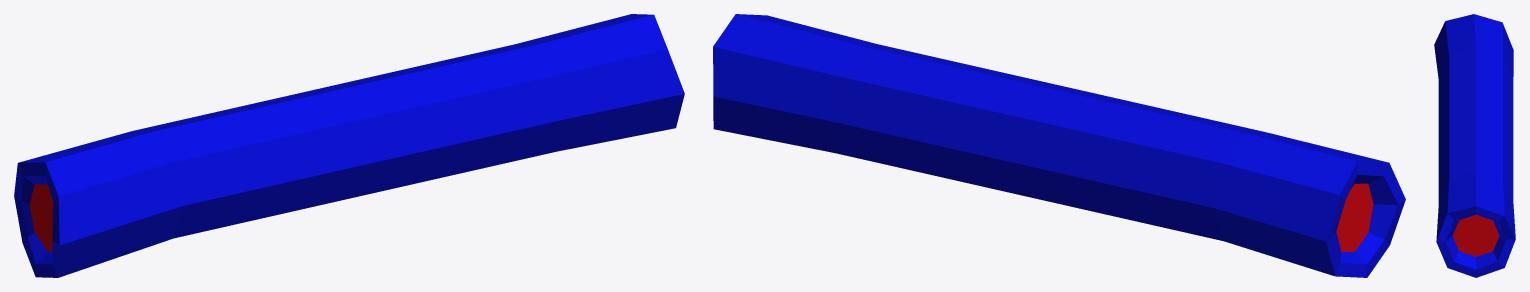
The model's file is SM_Long_Log1.fbx.
3 views of the same model, side by side, from view 1: azimuth 30°, elevation 25°; view 2: azimuth 150°, elevation 25°; view 3: azimuth 270°, elevation 25° (orthographic). The views are drawn at different scales.
Parts seen in each view (by area): view 1: SM_Long_Log1; view 2: SM_Long_Log1; view 3: SM_Long_Log1.
Boxes of the visible parts, <box> form: SM_Long_Log1: <box>14,14,684,277</box>; SM_Long_Log1: <box>713,14,1405,277</box>; SM_Long_Log1: <box>1434,14,1515,277</box>.
Bounding box in the file's own units: 192 × 34.48 × 33.9.
